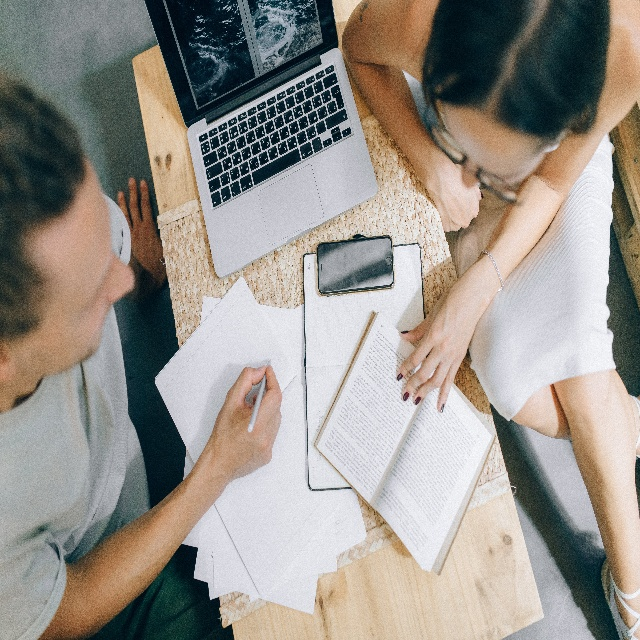Gafas: (424, 104, 525, 208)
Sin_guantes: (395, 282, 487, 413), (212, 360, 284, 483), (116, 173, 169, 287), (432, 153, 485, 235)
